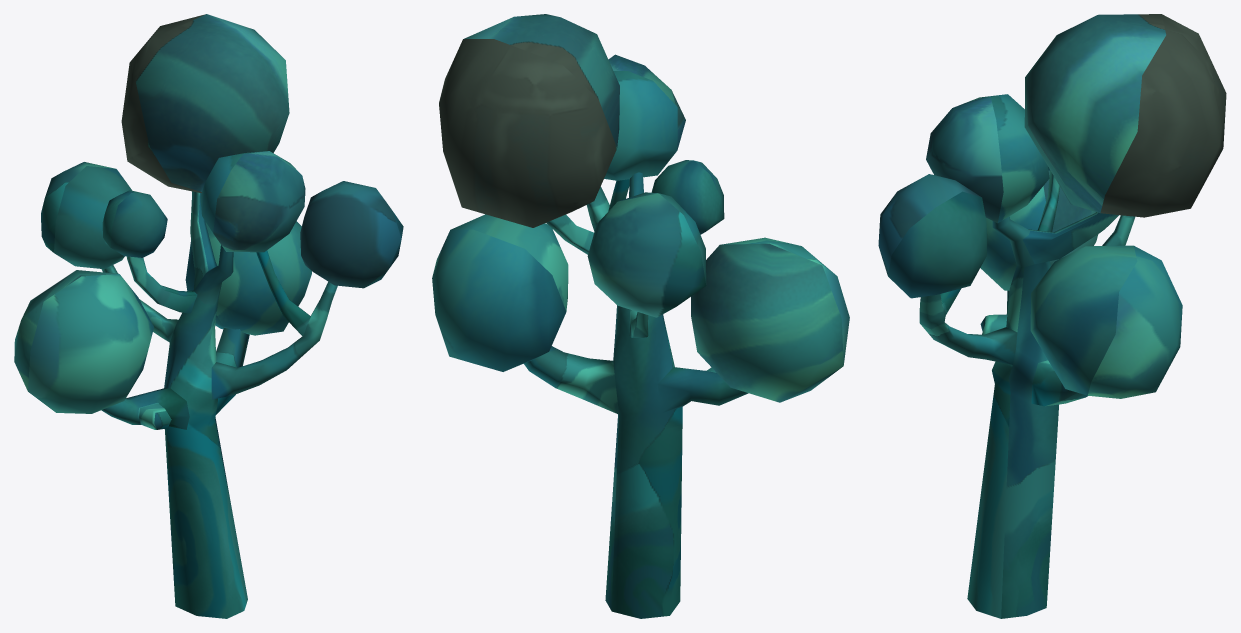
File: tree_C.fbx
3 views of the same model, side by side, from view 1: azimuth 30°, elevation 25°; view 2: azimuth 150°, elevation 25°; view 3: azimuth 270°, elevation 25° (orthographic). The views are drawn at different scales.
Visible parts, largest first — view 1: treeC; view 2: treeC; view 3: treeC.
Boxes of the visible parts, bbox=[...] form: treeC: bbox=[14, 14, 403, 618]; treeC: bbox=[432, 14, 849, 618]; treeC: bbox=[878, 14, 1226, 618].
Bounding box in the file's own units: 143 × 219 × 114.
